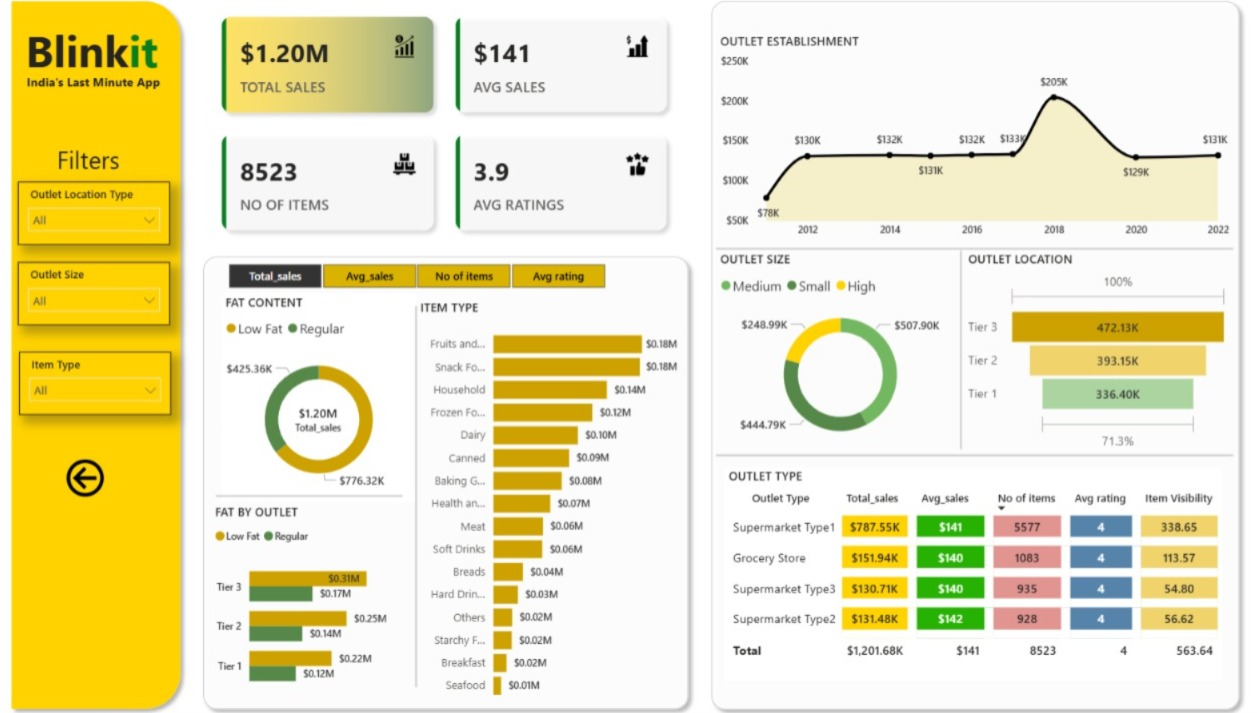

What the dashboard file says about the page in this screenshot:
{"tool":"powerbi","page":{"name":"Page 1","canvas":[1400,800],"ordinal":0},"visuals":[{"type":"shape","box":[10,0,205,800],"z":0},{"type":"textbox","box":[24.2,25.4,167.9,73.8],"z":1000},{"type":"textbox","box":[24.2,83.9,171.7,29.3],"z":2000},{"type":"cardVisual","fields":{"Data":["BlinkIT Grocery Data.Total_sales","BlinkIT Grocery Data.Avg_sales","BlinkIT Grocery Data.No of items","BlinkIT Grocery Data.Avg rating"]},"box":[234.5,8.7,526.1,270.5],"z":3000},{"type":"shape","box":[222.6,282.3,554.5,517.6],"z":4000},{"type":"donutChart","title":"FAT CONTENT","fields":{"Y":["BlinkIT Grocery Data.Total_sales"],"Category":["BlinkIT Grocery Data.Item Fat Content"]},"box":[250.5,331.9,216.2,230.2],"z":5000},{"type":"slicer","fields":{"Values":["Metrics.Metrics"]},"box":[234,292.5,465.5,39.4],"z":6000},{"type":"cardVisual","fields":{"Data":["BlinkIT Grocery Data.Total_sales"]},"box":[312.9,433.7,90.3,73.8],"z":7000},{"type":"clusteredBarChart","title":"FAT BY OUTLET","fields":{"Y":["BlinkIT Grocery Data.Total_sales"],"Category":["BlinkIT Grocery Data.Outlet Location Type","BlinkIT Grocery Data.Item Fat Content"],"Series":["BlinkIT Grocery Data.Item Fat Content"]},"box":[239.5,563.3,219.6,220.8],"z":8000},{"type":"shape","box":[245.5,540.5,206,30.5],"z":9000},{"type":"shape","box":[451.5,345.9,30.5,421],"z":10000},{"type":"barChart","title":"ITEM TYPE","fields":{"Y":["BlinkIT Grocery Data.Total_sales"],"Category":["BlinkIT Grocery Data.Item Type"]},"box":[466.8,337,293.8,452.8],"z":11000},{"type":"shape","box":[784.1,0,601.7,800.3],"z":12000},{"type":"lineChart","title":"OUTLET ESTABLISHMENT","fields":{"Y":["BlinkIT Grocery Data.Total_sales"],"Category":["BlinkIT Grocery Data.Outlet Establishment Year"]},"box":[797.4,43.2,572.3,235.3],"z":13000},{"type":"shape","box":[797.4,267.1,572.3,30.5],"z":14000},{"type":"donutChart","title":"OUTLET SIZE","fields":{"Y":["BlinkIT Grocery Data.Total_sales"],"Category":["BlinkIT Grocery Data.Outlet Size"]},"box":[797.4,284.9,275,225],"z":15000},{"type":"shape","box":[1053.1,284.9,30.5,220],"z":16000},{"type":"funnel","title":"OUTLET LOCATION","fields":{"Y":["Sum(BlinkIT Grocery Data.Sales)"],"Category":["BlinkIT Grocery Data.Outlet Location Type"]},"box":[1072.1,284.9,297.6,225.1],"z":17000},{"type":"shape","box":[797.4,496,572.3,28],"z":18000},{"type":"pivotTable","title":"OUTLET TYPE","fields":{"Rows":["BlinkIT Grocery Data.Outlet Type"],"Values":["BlinkIT Grocery Data.Total_sales","BlinkIT Grocery Data.Avg_sales","BlinkIT Grocery Data.No of items","BlinkIT Grocery Data.Avg rating","Sum(BlinkIT Grocery Data.Item Visibility)"]},"box":[807.6,524,550.7,235.3],"z":19000},{"type":"slicer","fields":{"Values":["BlinkIT Grocery Data.Outlet Location Type"]},"box":[26.7,208.6,167.9,69.9],"z":20000},{"type":"slicer","fields":{"Values":["BlinkIT Grocery Data.Outlet Size"]},"box":[26.7,297.6,167.9,69.9],"z":21000},{"type":"slicer","fields":{"Values":["BlinkIT Grocery Data.Item Type"]},"box":[28,395.5,167.9,69.9],"z":22000},{"type":"actionButton","box":[74.4,507.4,52.1,55.8],"z":23000},{"type":"textbox","box":[64.5,161.3,104.2,47.1],"z":24000}]}

Visuals, with their boxes in screenshot pixels (x1, y1, x2, y2), scaled from the page's 1400x800 canvas onto the 1257x713 screenshot:
shape: [x1=9, y1=0, x2=193, y2=712]
textbox: [x1=22, y1=23, x2=172, y2=88]
textbox: [x1=22, y1=75, x2=176, y2=101]
cardVisual - BlinkIT Grocery Data.Total_sales x BlinkIT Grocery Data.Avg_sales: [x1=211, y1=8, x2=683, y2=249]
shape: [x1=200, y1=252, x2=698, y2=712]
"FAT CONTENT" donutChart: [x1=225, y1=296, x2=419, y2=501]
slicer - Metrics.Metrics: [x1=210, y1=261, x2=628, y2=296]
cardVisual - BlinkIT Grocery Data.Total_sales: [x1=281, y1=387, x2=362, y2=452]
"FAT BY OUTLET" clusteredBarChart: [x1=215, y1=502, x2=412, y2=699]
shape: [x1=220, y1=482, x2=405, y2=509]
shape: [x1=405, y1=308, x2=433, y2=683]
"ITEM TYPE" barChart: [x1=419, y1=300, x2=683, y2=704]
shape: [x1=704, y1=0, x2=1244, y2=712]
"OUTLET ESTABLISHMENT" lineChart: [x1=716, y1=39, x2=1230, y2=248]
shape: [x1=716, y1=238, x2=1230, y2=265]
"OUTLET SIZE" donutChart: [x1=716, y1=254, x2=963, y2=454]
shape: [x1=946, y1=254, x2=973, y2=450]
"OUTLET LOCATION" funnel: [x1=963, y1=254, x2=1230, y2=455]
shape: [x1=716, y1=442, x2=1230, y2=467]
"OUTLET TYPE" pivotTable: [x1=725, y1=467, x2=1220, y2=677]
slicer - BlinkIT Grocery Data.Outlet Location Type: [x1=24, y1=186, x2=175, y2=248]
slicer - BlinkIT Grocery Data.Outlet Size: [x1=24, y1=265, x2=175, y2=328]
slicer - BlinkIT Grocery Data.Item Type: [x1=25, y1=352, x2=176, y2=415]
actionButton: [x1=67, y1=452, x2=114, y2=502]
textbox: [x1=58, y1=144, x2=151, y2=186]
